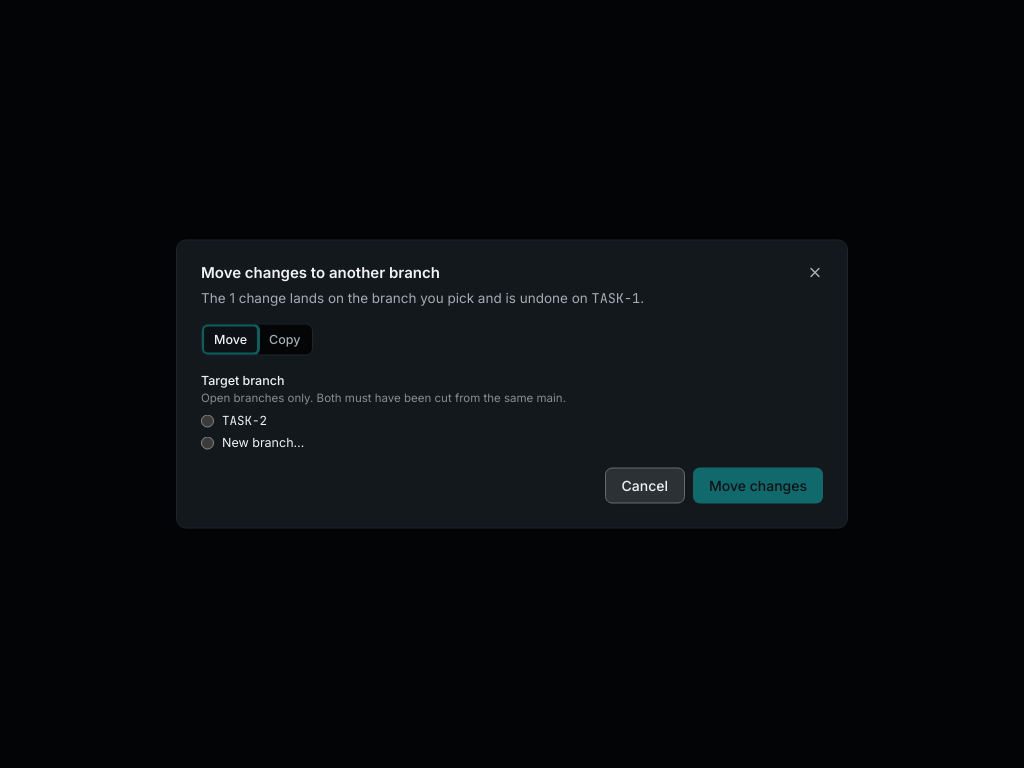
it: TransferChangesDialog › offers open branches only and lists what the dry run carries
The width and height of the screenshot is (1024, 768).
Click the radio button labelled "TASK-2". click: (208, 420)
box: [201,414,214,427]
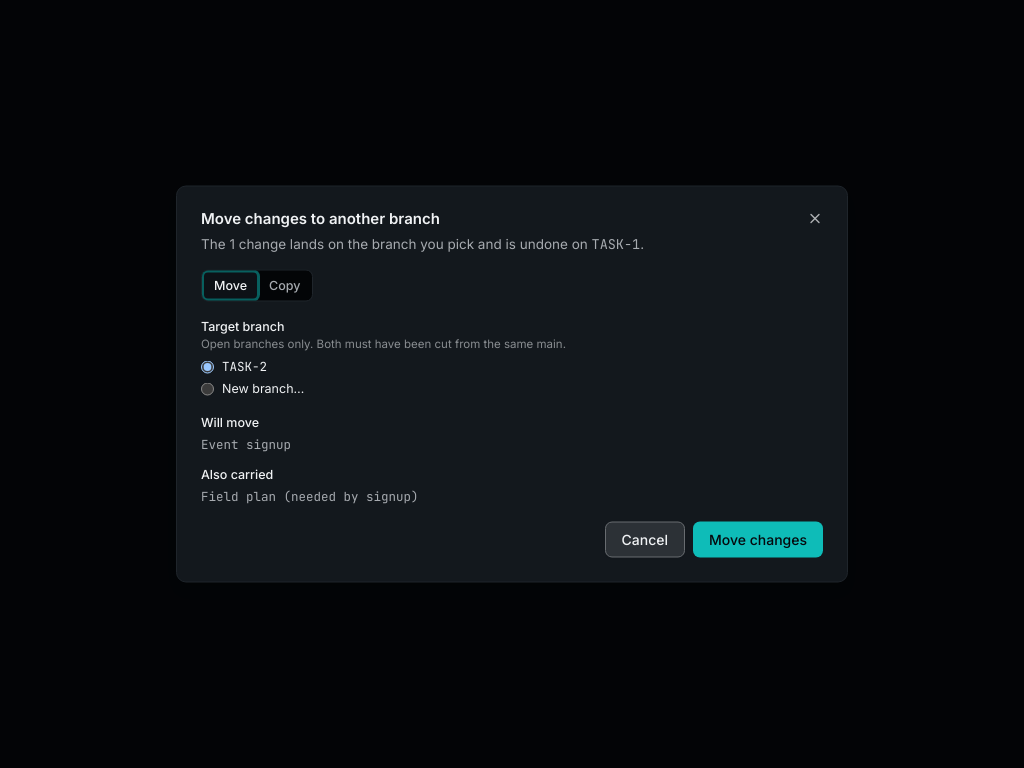
Result: the list item "Field plan (needed by signup)" is shown at [201,488,418,504]
Result: the list item "Event signup" is shown at [201,436,291,452]
Result: the button "Move changes" is enabled at [693,522,823,558]
